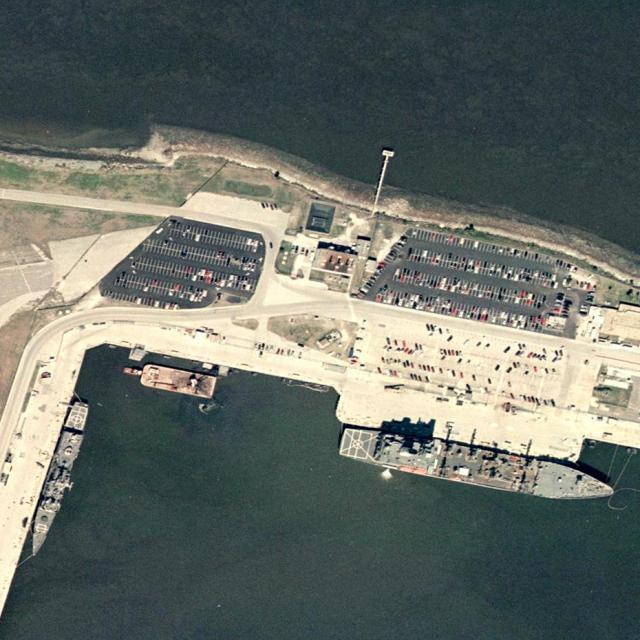Commander: (330, 423, 619, 512)
Frigate: (24, 401, 92, 559)
Other Ship: (140, 363, 218, 401), (123, 366, 142, 377)
